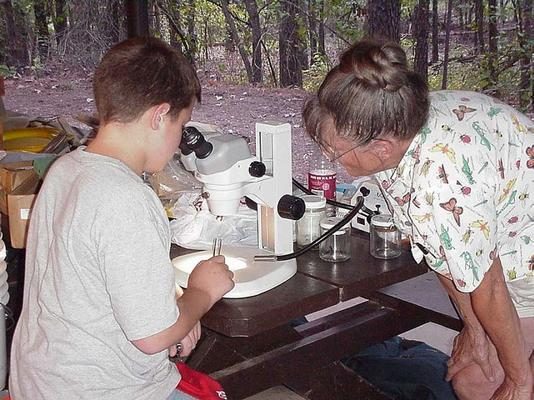person: (8, 36, 234, 400)
